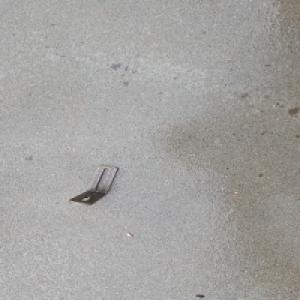MetalPart: (68, 164, 119, 205)
